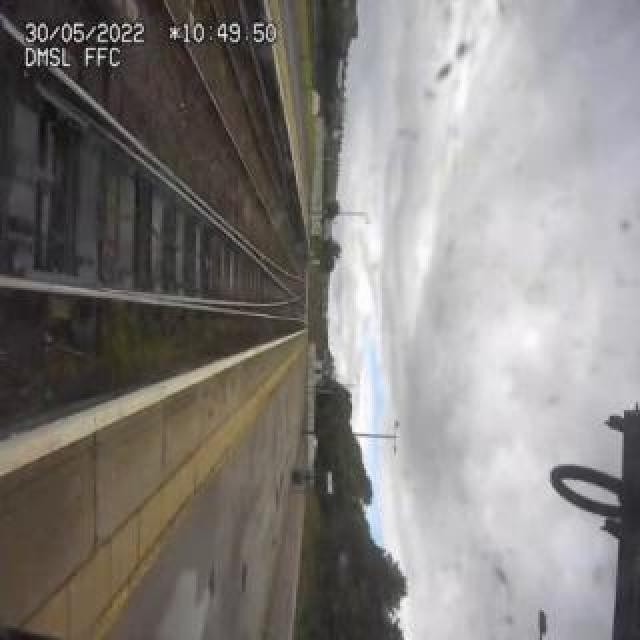Station-Lights-Off: (536, 610, 552, 640)
